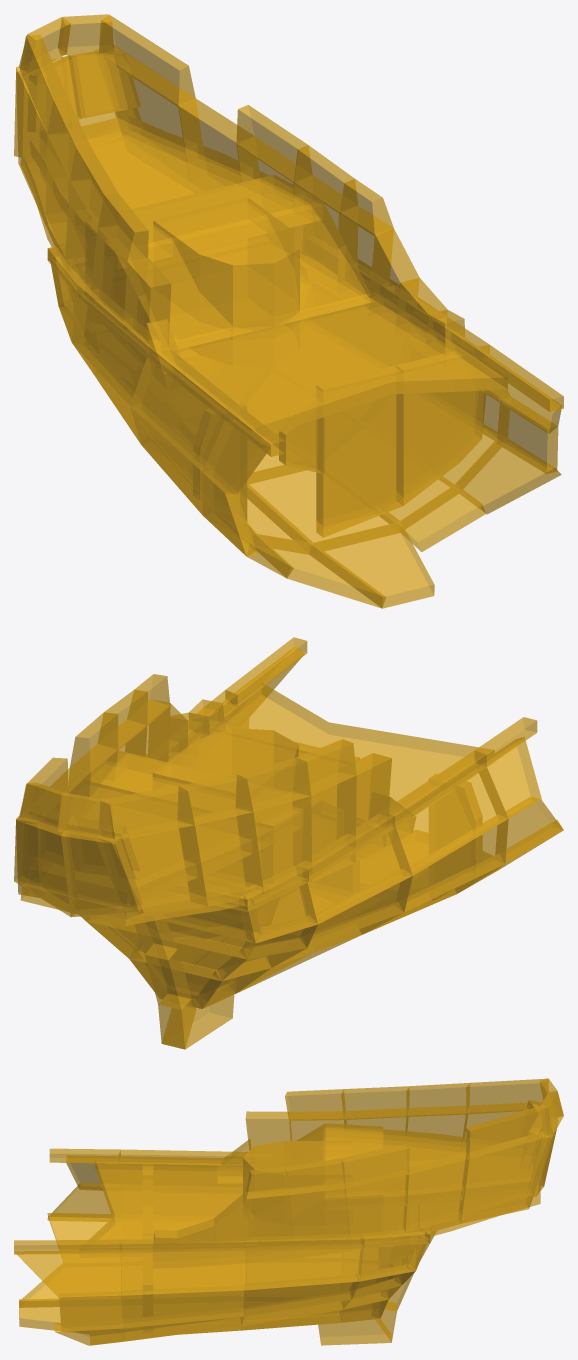
Rendered from SM_Prop_Wreck_Small_Back_01_Collision.fbx.
3 views of the same model, one above another, from view 1: azimuth 30°, elevation 25°; view 2: azimuth 150°, elevation 25°; view 3: azimuth 270°, elevation 25° (orthographic). The views are drawn at different scales.
Parts seen in each view (by area): view 1: SM_Prop_Wreck_Small_Back_01_Collision; view 2: SM_Prop_Wreck_Small_Back_01_Collision; view 3: SM_Prop_Wreck_Small_Back_01_Collision.
Part boxes in pixels (x1,y1,x2,y2): SM_Prop_Wreck_Small_Back_01_Collision: [14, 14, 563, 608]; SM_Prop_Wreck_Small_Back_01_Collision: [14, 637, 563, 1049]; SM_Prop_Wreck_Small_Back_01_Collision: [14, 1078, 563, 1345].
Bounding box in the file's own units: 826 × 835 × 1662.
